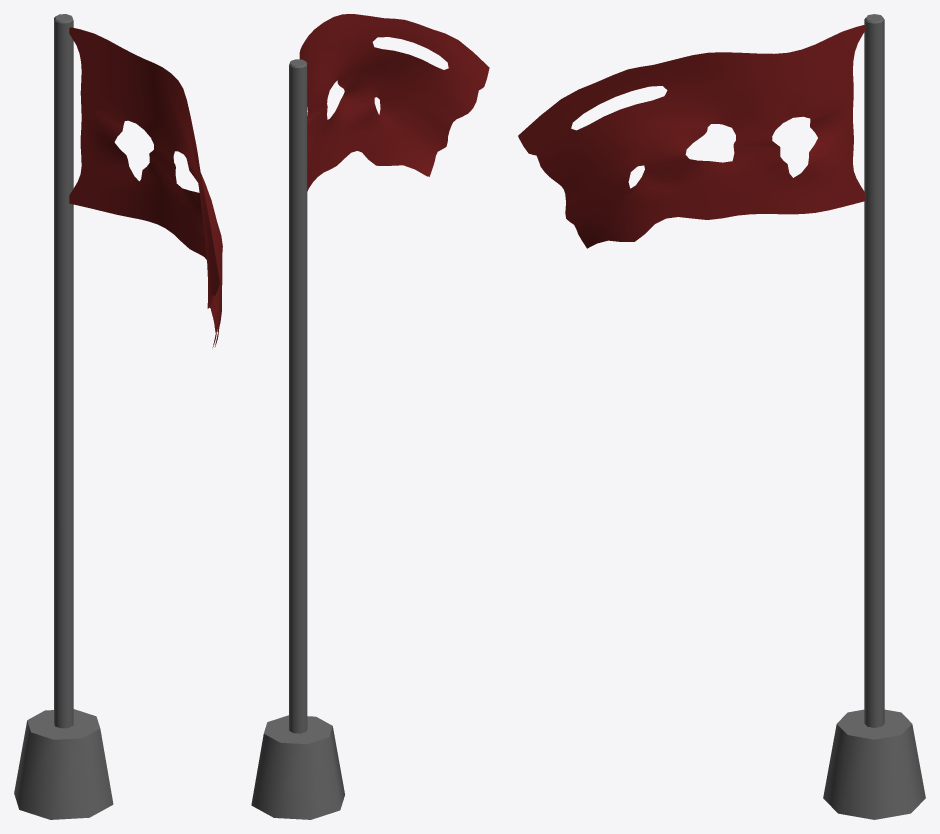
File: Flag.fbx
The picture shows the model from 3 angles, left to right: view 1: azimuth 30°, elevation 25°; view 2: azimuth 150°, elevation 25°; view 3: azimuth 270°, elevation 25°; orthographic projection. The views are drawn at different scales.
Visible parts, largest first — view 1: polySurface2, polySurface3, polySurface1; view 2: polySurface3, polySurface2, polySurface1; view 3: polySurface1, polySurface2, polySurface3.
Boxes of the visible parts, bbox=[...] form: polySurface2: bbox=[14, 14, 113, 819]; polySurface3: bbox=[69, 28, 217, 347]; polySurface1: bbox=[70, 27, 222, 347]; polySurface3: bbox=[301, 14, 489, 191]; polySurface2: bbox=[251, 59, 344, 819]; polySurface1: bbox=[299, 14, 450, 176]; polySurface1: bbox=[518, 25, 865, 248]; polySurface2: bbox=[823, 14, 925, 819]; polySurface3: bbox=[518, 25, 864, 211].
Bounding box in the file's own units: 4.4 × 35.57 × 16.85.
